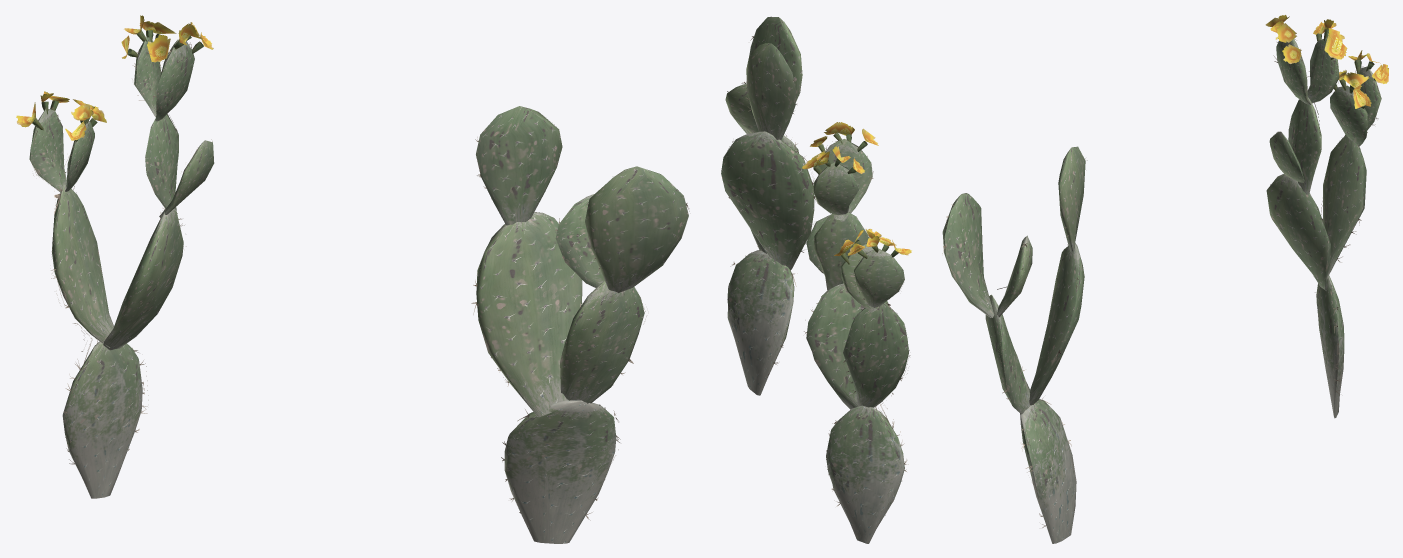
The model's file is kaktus_zluty.glb.
3 renders of one model, left to right at view 1: azimuth 30°, elevation 25°; view 2: azimuth 150°, elevation 25°; view 3: azimuth 270°, elevation 25°, orthographic. The views are drawn at different scales.
Parts seen in each view (by area): view 1: prickly pear_4_prickly pear_4Mat_0, prickly pear blend_3_prickly pear blend_3Mat_0, prickly pear flower_9_prickly pear flower_9Mat_0, spines 02_8_spines 02_8Mat_0; view 2: prickly pear_4_prickly pear_4Mat_0, prickly pear blend_3_prickly pear blend_3Mat_0, prickly pear flower_9_prickly pear flower_9Mat_0, prickly pear stem_5_prickly pear stem_5Mat_0, spines 02_8_spines 02_8Mat_0; view 3: prickly pear_4_prickly pear_4Mat_0, prickly pear blend_3_prickly pear blend_3Mat_0, prickly pear flower_9_prickly pear flower_9Mat_0, spines 02_8_spines 02_8Mat_0.
Boxes of the visible parts, x1=… form: prickly pear_4_prickly pear_4Mat_0: x1=29, y1=37, x2=688, y2=417; prickly pear blend_3_prickly pear blend_3Mat_0: x1=62, y1=341, x2=616, y2=543; prickly pear flower_9_prickly pear flower_9Mat_0: x1=16, y1=15, x2=213, y2=140; spines 02_8_spines 02_8Mat_0: x1=31, y1=42, x2=689, y2=520; prickly pear_4_prickly pear_4Mat_0: x1=721, y1=17, x2=908, y2=408; prickly pear blend_3_prickly pear blend_3Mat_0: x1=727, y1=250, x2=904, y2=543; prickly pear flower_9_prickly pear flower_9Mat_0: x1=802, y1=122, x2=911, y2=255; prickly pear stem_5_prickly pear stem_5Mat_0: x1=813, y1=132, x2=898, y2=264; spines 02_8_spines 02_8Mat_0: x1=727, y1=16, x2=910, y2=515; prickly pear_4_prickly pear_4Mat_0: x1=942, y1=38, x2=1381, y2=414; prickly pear blend_3_prickly pear blend_3Mat_0: x1=1020, y1=275, x2=1344, y2=543; prickly pear flower_9_prickly pear flower_9Mat_0: x1=1265, y1=15, x2=1388, y2=108; spines 02_8_spines 02_8Mat_0: x1=942, y1=38, x2=1378, y2=527.
Size of the model in its own units: 0.8747 by 0.9177 by 0.8907.
Materials: 5 (5 with a texture image).
